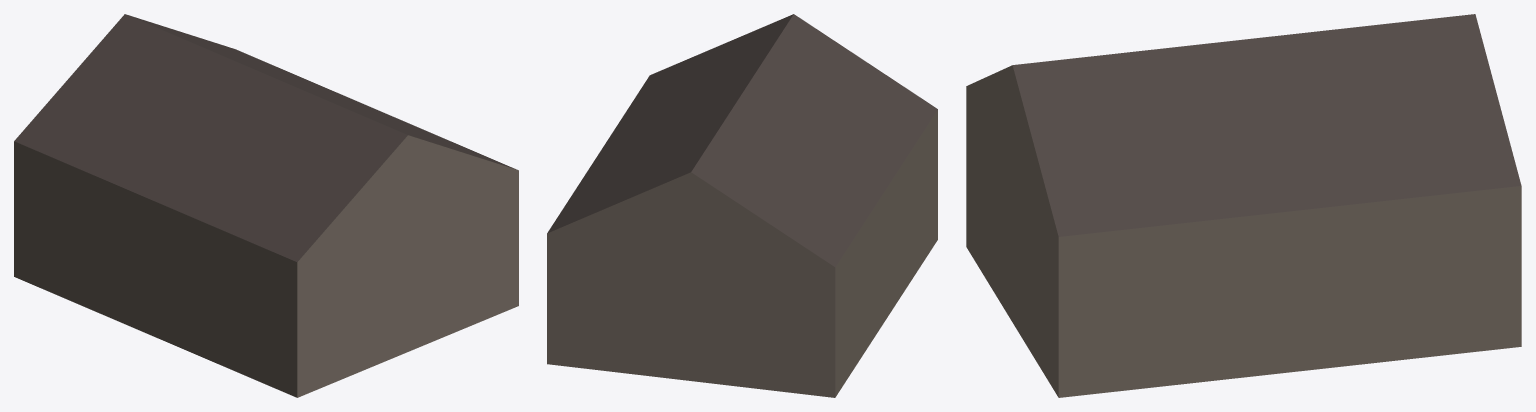
The picture shows the model from 3 angles, left to right: view 1: azimuth 30°, elevation 25°; view 2: azimuth 150°, elevation 25°; view 3: azimuth 270°, elevation 25°; orthographic projection. The views are drawn at different scales.
Visible parts, largest first — view 1: HP-w859078899; view 2: HP-w859078899; view 3: HP-w859078899.
Part boxes in pixels (box(x1,y1,x2,y2)): HP-w859078899: box(14, 14, 518, 397); HP-w859078899: box(547, 14, 937, 397); HP-w859078899: box(966, 14, 1521, 397).
Bounding box in the file's own units: 16.14 × 9.59 × 18.75.
